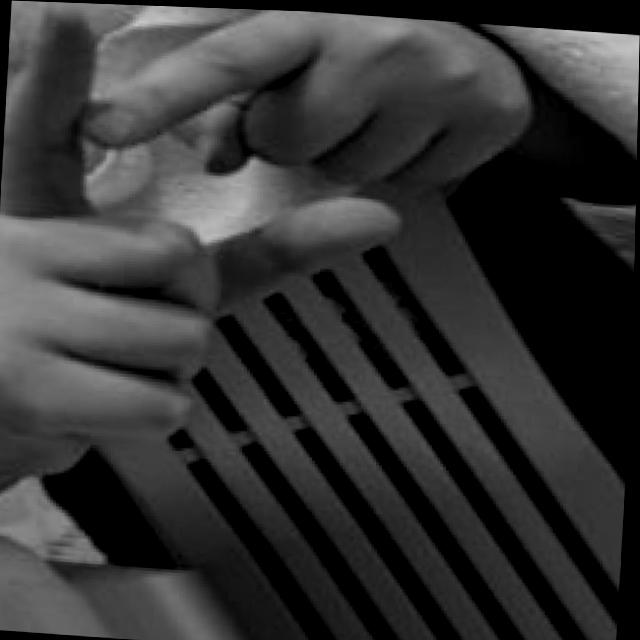J: (0, 0, 542, 548)
